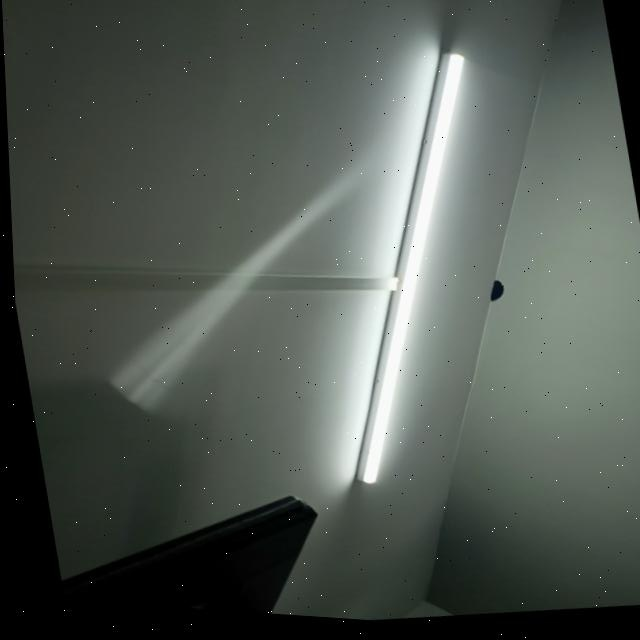fluorescent tube: (277, 32, 541, 502)
